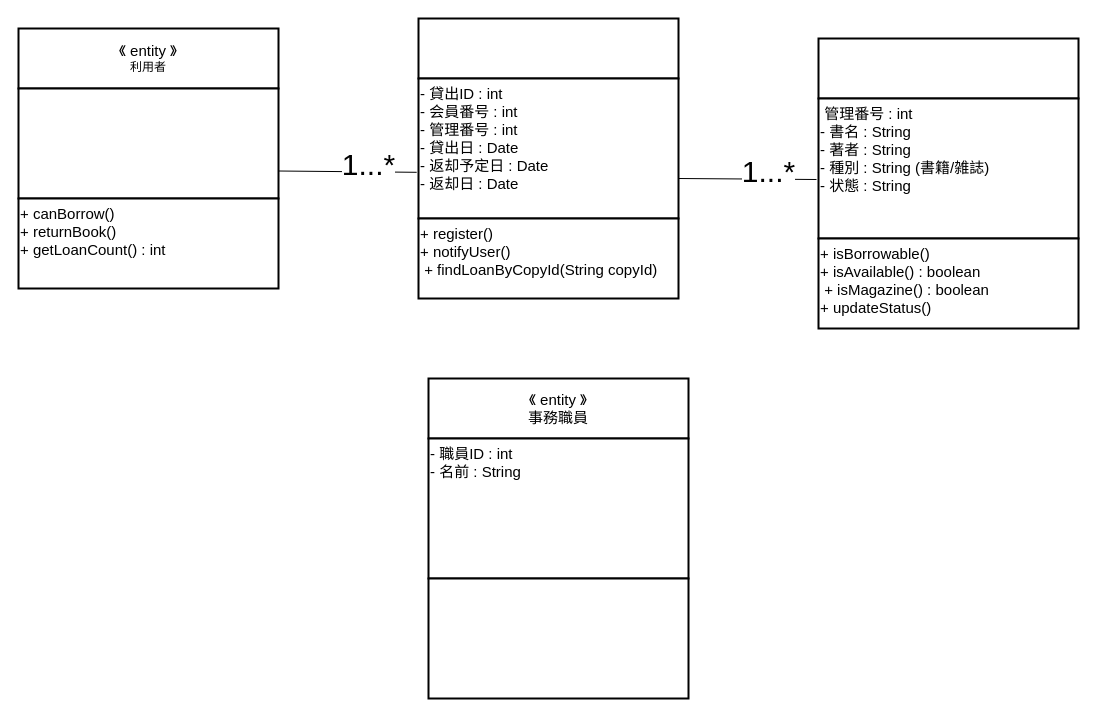
The diagram is 1096 pixels wide and 716 high, and some of its shapes have lost their labels. The box of each missing label's shape, as (x1, y1, x2, y2) in pixels:
+ checkMember() + checkBook() + checkLimit() + confirmLoan() + cancelBook(): (427, 577, 689, 699)
- 会員番号 : int - 氏名 : String - 会員種別 : String - 連絡先 : String - 現在貸出冊数 : int: (17, 87, 279, 199)
《 entity 》 図書: (817, 37, 1079, 99)
《 entity 》 貸出記録: (417, 17, 679, 79)
